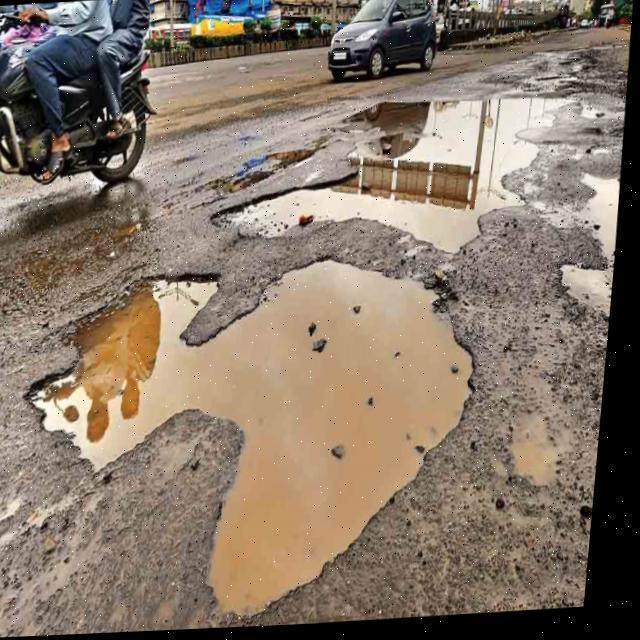Pothole: (15, 252, 482, 624), (198, 93, 577, 257), (554, 165, 621, 339)
